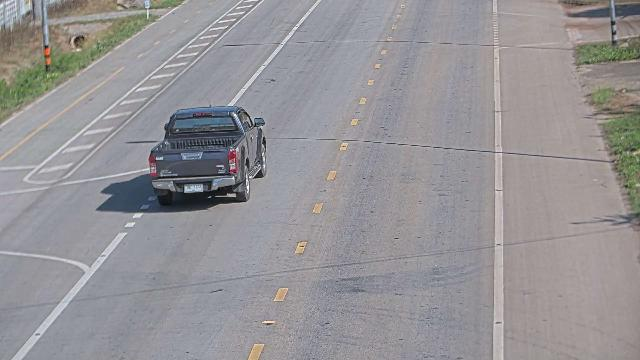pickup-truck: (148, 104, 267, 205)
